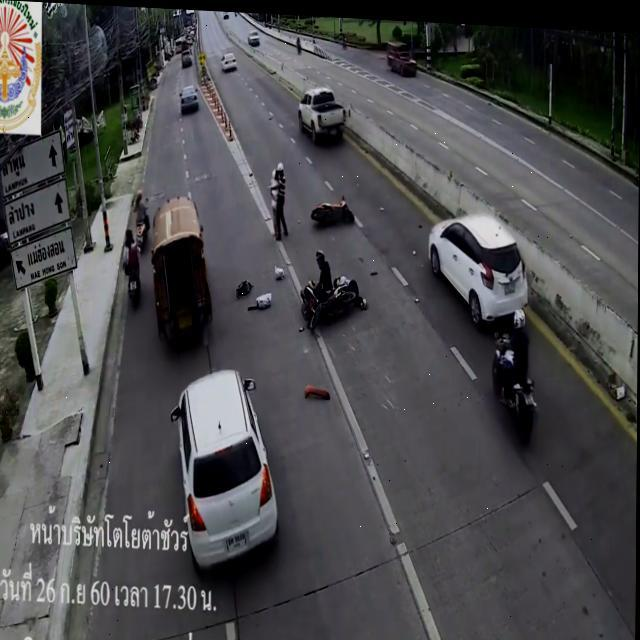multiple_accident: (257, 150, 358, 250), (293, 243, 375, 352)
normal: (408, 189, 564, 450), (138, 367, 315, 597), (108, 155, 230, 377), (289, 69, 389, 166), (172, 58, 222, 125)
